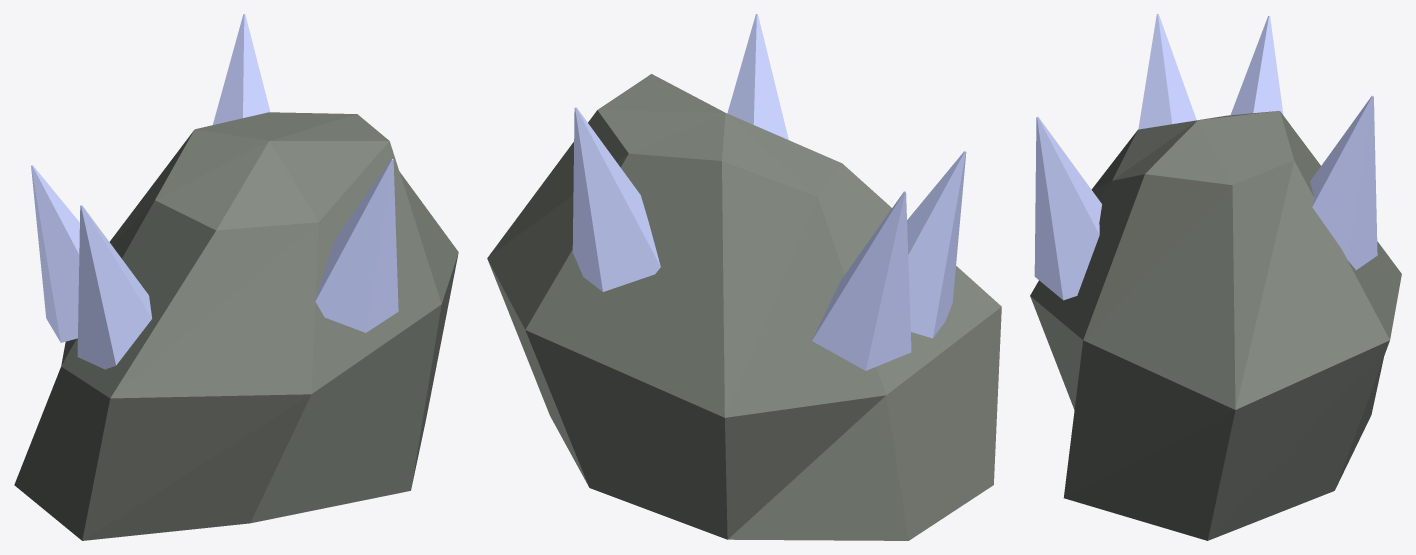
Rendered from mithril_node.glb.
3 renders of one model, left to right at view 1: azimuth 30°, elevation 25°; view 2: azimuth 150°, elevation 25°; view 3: azimuth 270°, elevation 25°, orthographic. The views are drawn at different scales.
Visible parts, largest first — view 1: mithril_node; view 2: mithril_node; view 3: mithril_node.
Part boxes in pixels (x1,y1,x2,y2): mithril_node: (14,14,458,540); mithril_node: (487,14,1001,540); mithril_node: (1030,14,1401,540).
Size of the model in its own units: 1.74 by 1.45 by 1.25.
